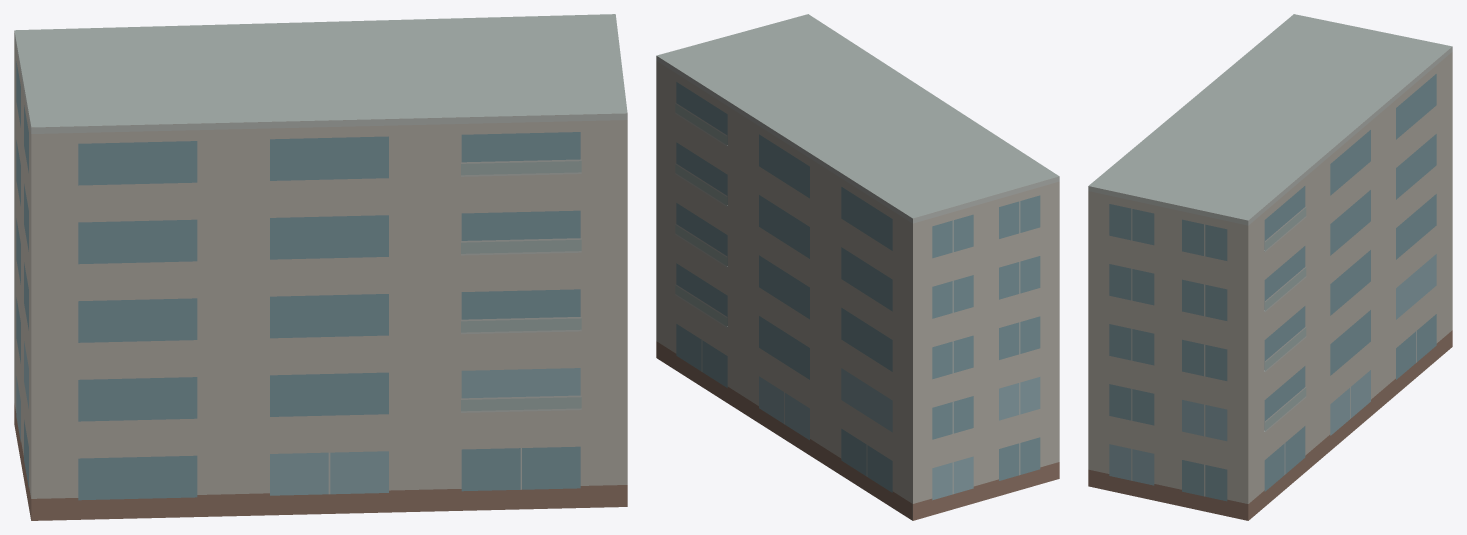
The model's file is survey-upis-32944161.glb.
The picture shows the model from 3 angles, left to right: view 1: azimuth 30°, elevation 25°; view 2: azimuth 150°, elevation 25°; view 3: azimuth 270°, elevation 25°; orthographic projection. The views are drawn at different scales.
Visible parts, largest first — view 1: survey-upis-32944161.tmp; view 2: survey-upis-32944161.tmp; view 3: survey-upis-32944161.tmp.
Part boxes in pixels (box(x1,y1,x2,y2)): survey-upis-32944161.tmp: box(14, 14, 627, 520); survey-upis-32944161.tmp: box(656, 14, 1059, 520); survey-upis-32944161.tmp: box(1088, 14, 1452, 520).
Bounding box in the file's own units: 21.25 × 14.4 × 15.84.
